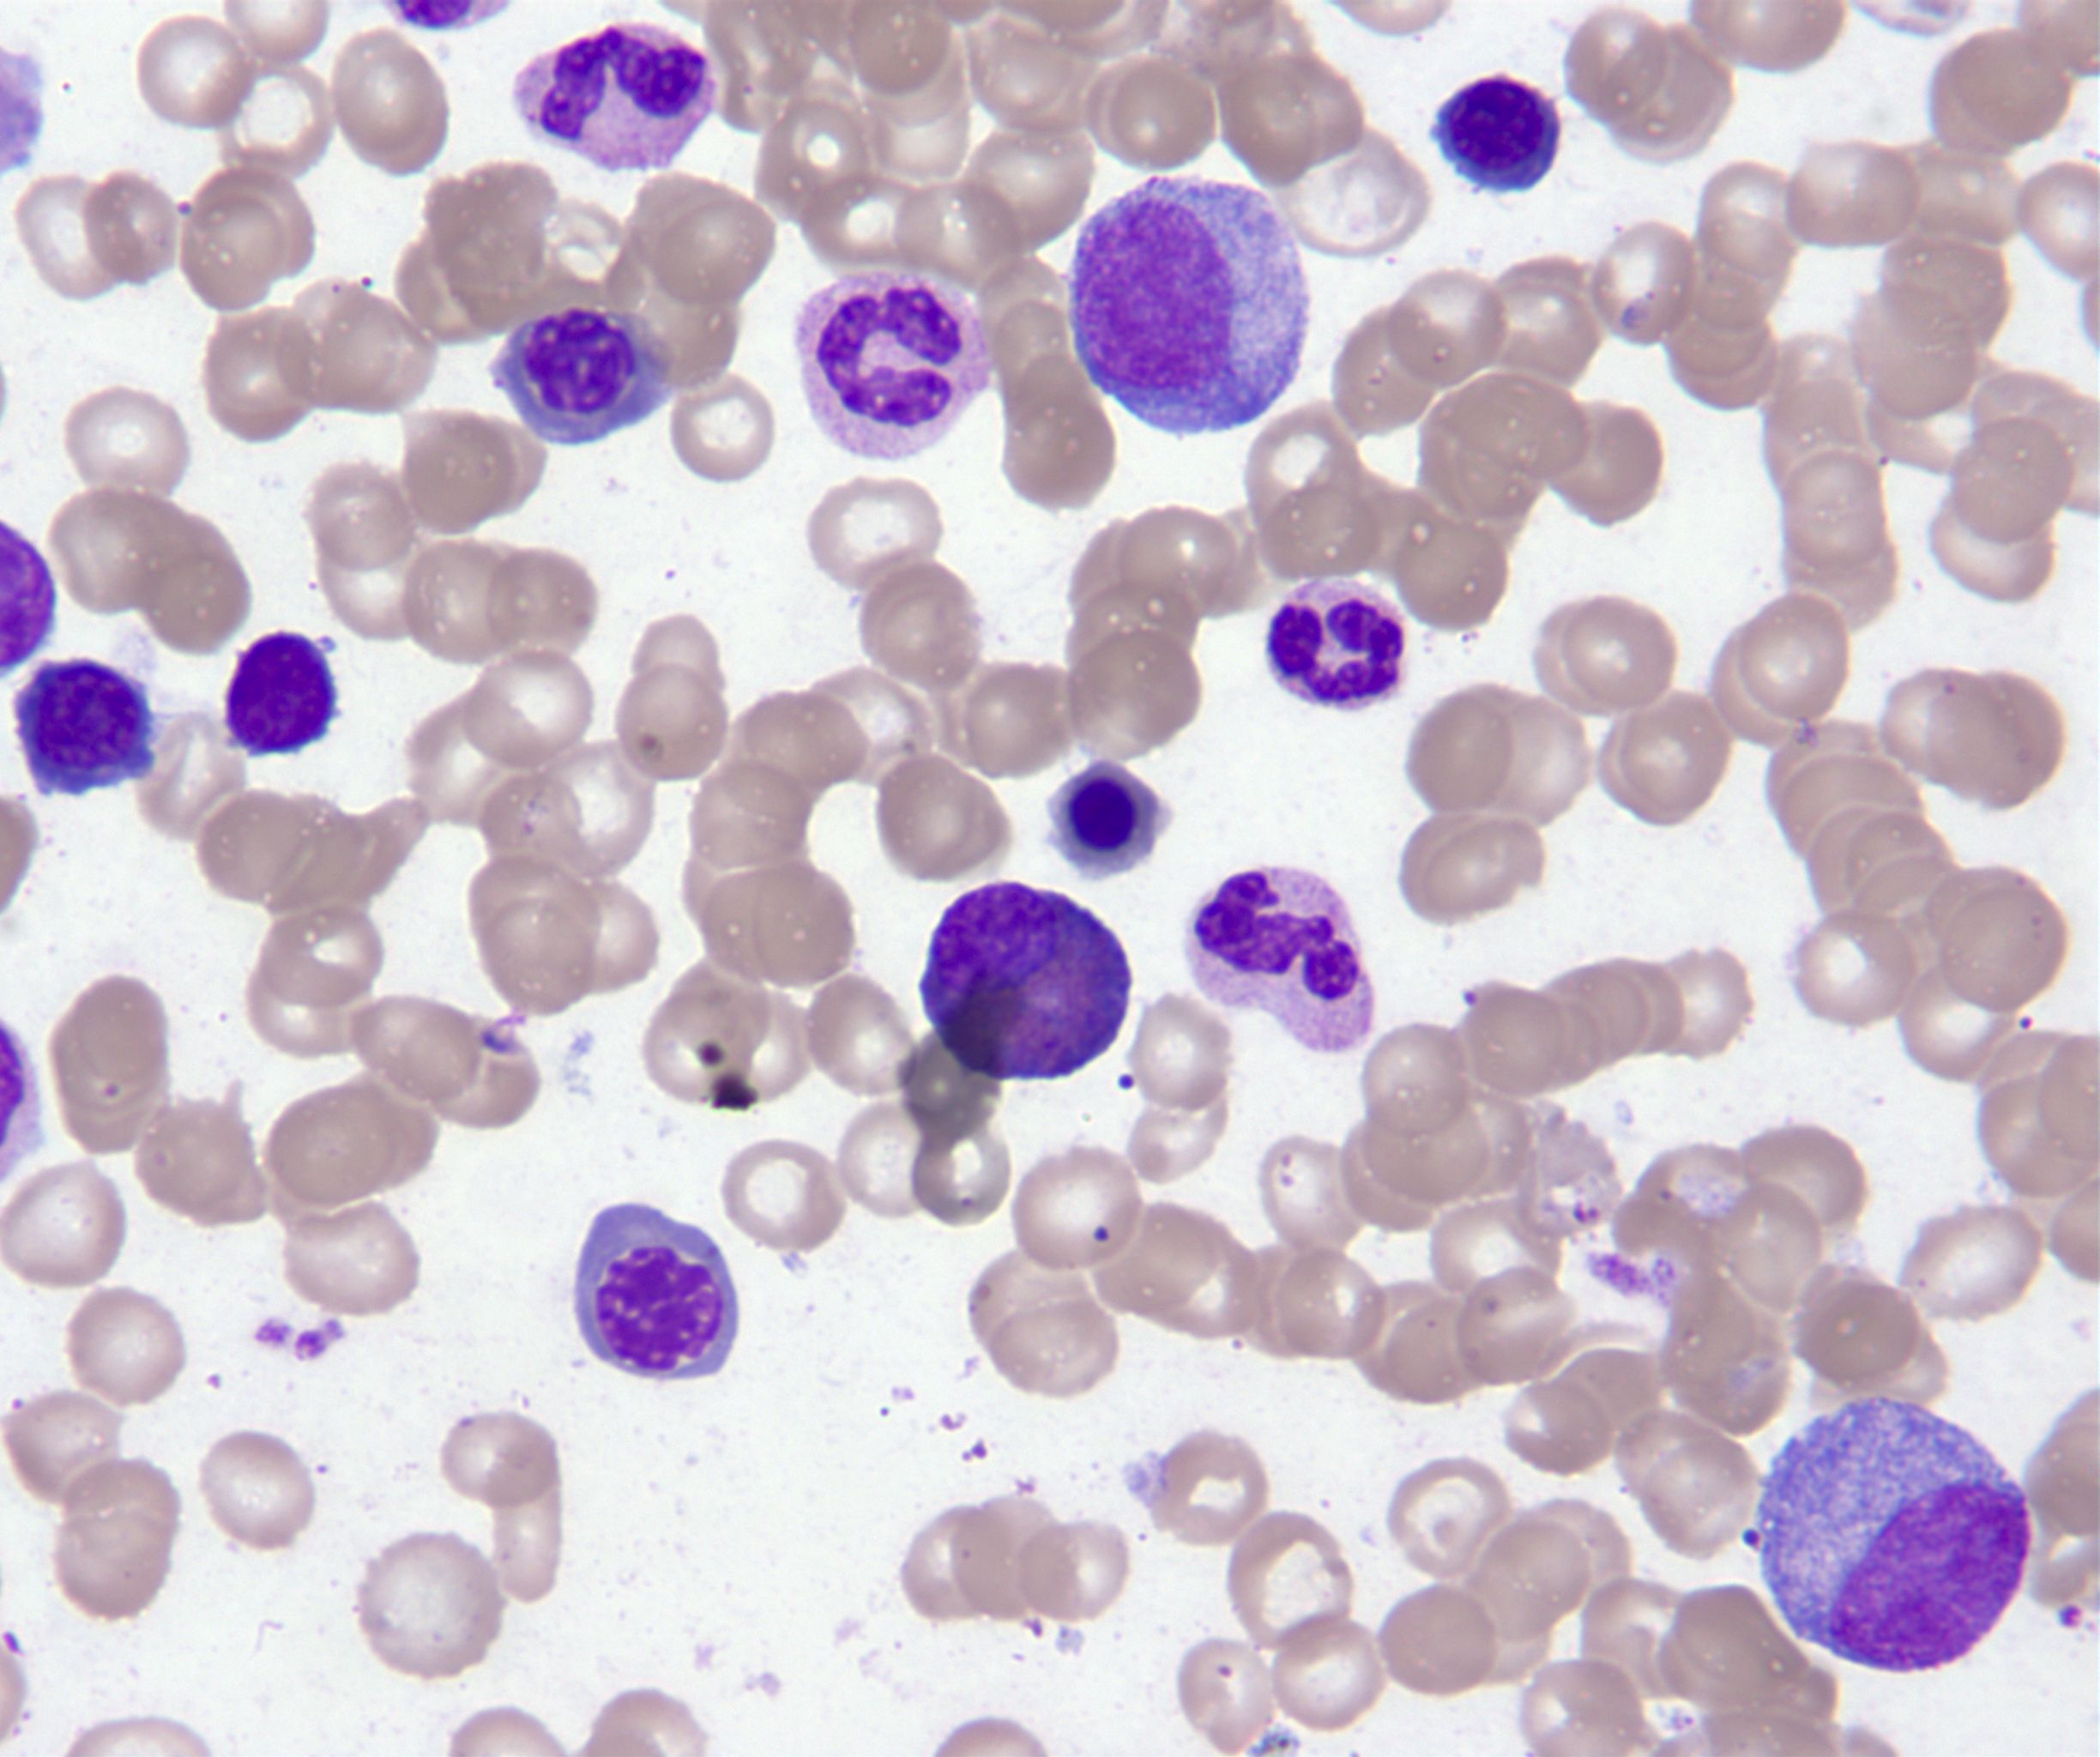2: (1067, 169, 1315, 450)
23: (9, 656, 162, 804)
24: (570, 1199, 743, 1387), (490, 297, 680, 448), (1041, 749, 1172, 886)
3: (1744, 1387, 2035, 1685)
32: (215, 628, 340, 768)
5: (785, 265, 996, 461), (509, 19, 724, 178), (1261, 572, 1415, 721)
6: (1181, 862, 1381, 1059)
E2: (914, 878, 1135, 1089)
x: (1427, 65, 1566, 202)
